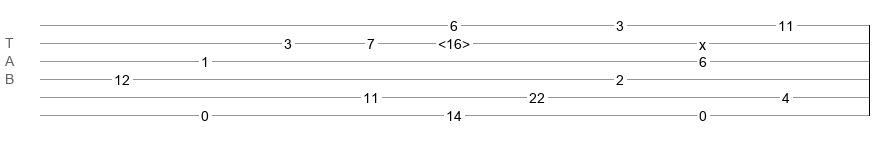0: (201, 108, 209, 118), (699, 108, 707, 118)
1: (201, 54, 209, 64)
11: (363, 90, 379, 100), (778, 18, 794, 28)
12: (114, 72, 130, 82)
14: (446, 108, 462, 118)
2: (616, 72, 624, 82)
22: (529, 90, 545, 100)
3: (284, 36, 292, 46), (616, 18, 624, 28)
4: (782, 90, 790, 100)
6: (450, 18, 458, 28), (699, 54, 707, 64)
7: (367, 36, 375, 46)
harmonic: (438, 36, 470, 46)
x: (699, 37, 706, 45)
